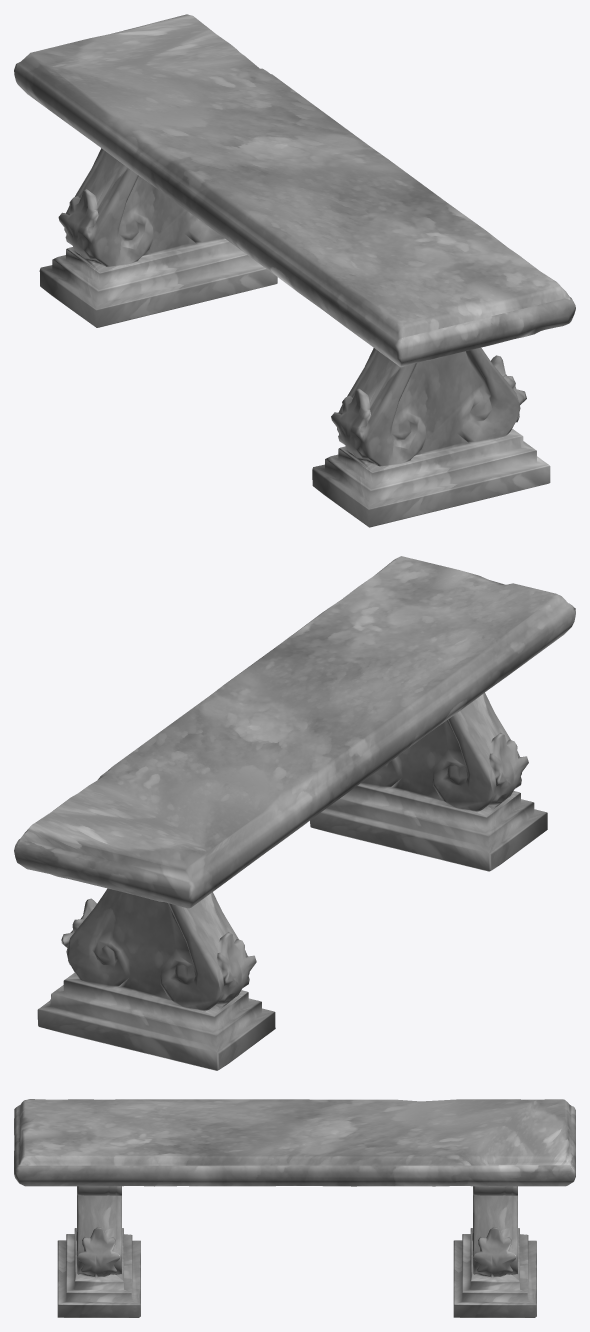
The model's file is SM_BenchConcrete_01a.fbx.
3 views of the same model, one above another, from view 1: azimuth 30°, elevation 25°; view 2: azimuth 150°, elevation 25°; view 3: azimuth 270°, elevation 25° (orthographic). The views are drawn at different scales.
Parts seen in each view (by area): view 1: SM_BenchConcrete_01a_LOD0; view 2: SM_BenchConcrete_01a_LOD0; view 3: SM_BenchConcrete_01a_LOD0.
Boxes of the visible parts, bbox=[...] form: SM_BenchConcrete_01a_LOD0: bbox=[14, 14, 575, 527]; SM_BenchConcrete_01a_LOD0: bbox=[14, 556, 575, 1070]; SM_BenchConcrete_01a_LOD0: bbox=[14, 1099, 575, 1317].
Size of the model in its own units: 55.12 by 203 by 63.15.
